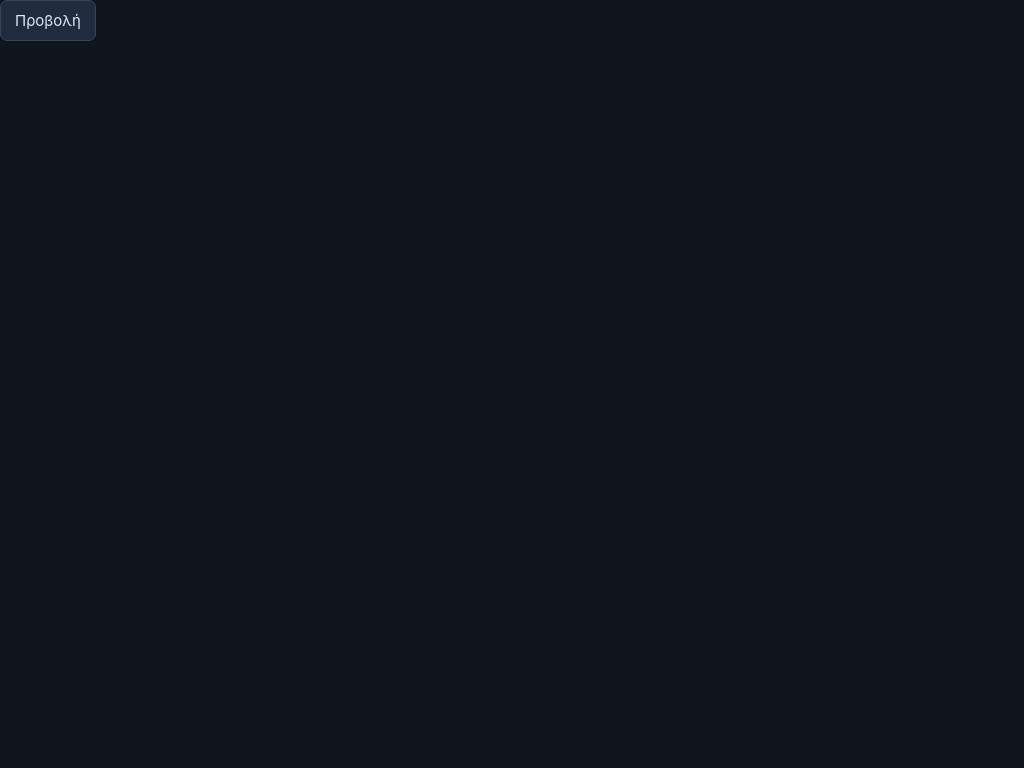
Test case: PDF preview controls and lifecycle › reports PDF engine errors with retry and original download, never a blank success
Click the button "Προβολή" at x=48, y=20, box [0,0,96,41]
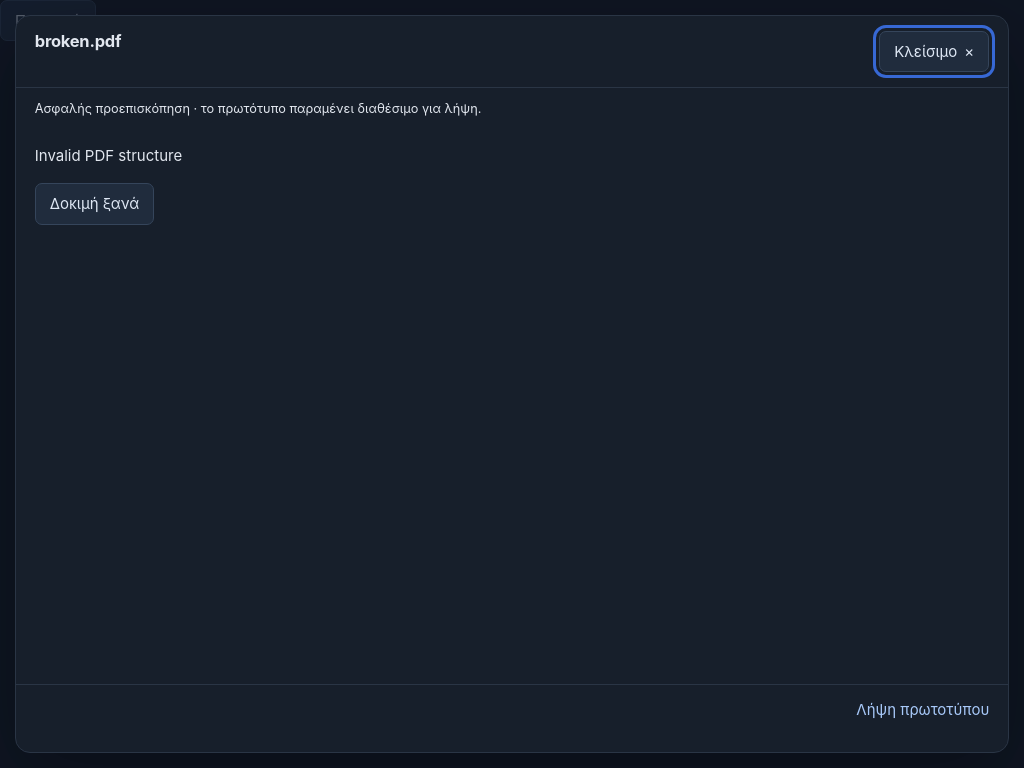
Result: the message reads "Invalid PDF structure" at [35,146,182,165]
Result: the button "Δοκιμή ξανά" is enabled at [35,183,154,225]
